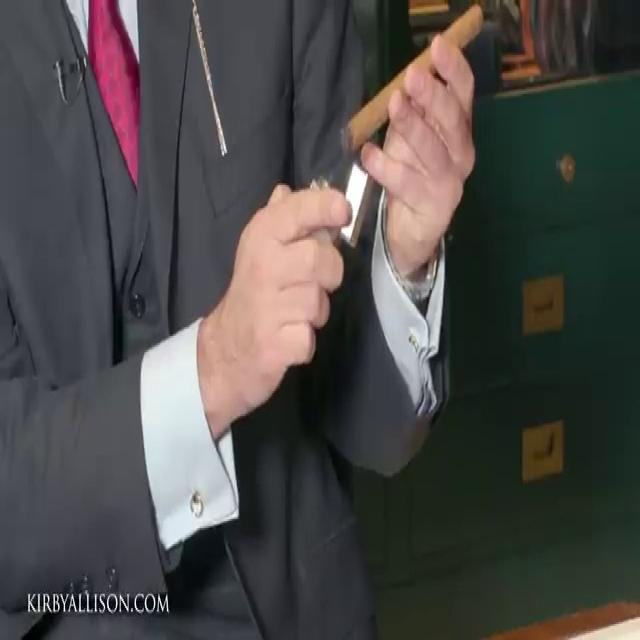Smooking: (314, 2, 502, 176)
